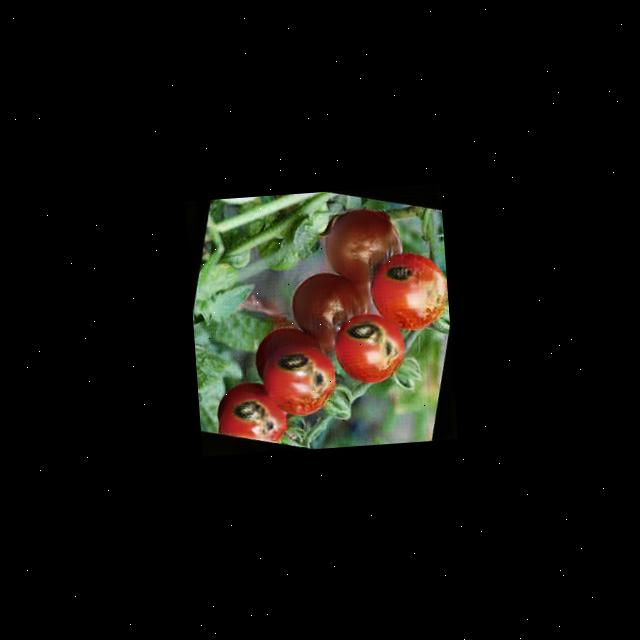tomato: (335, 309, 409, 392), (261, 338, 338, 414), (372, 252, 448, 328), (218, 378, 289, 449)
